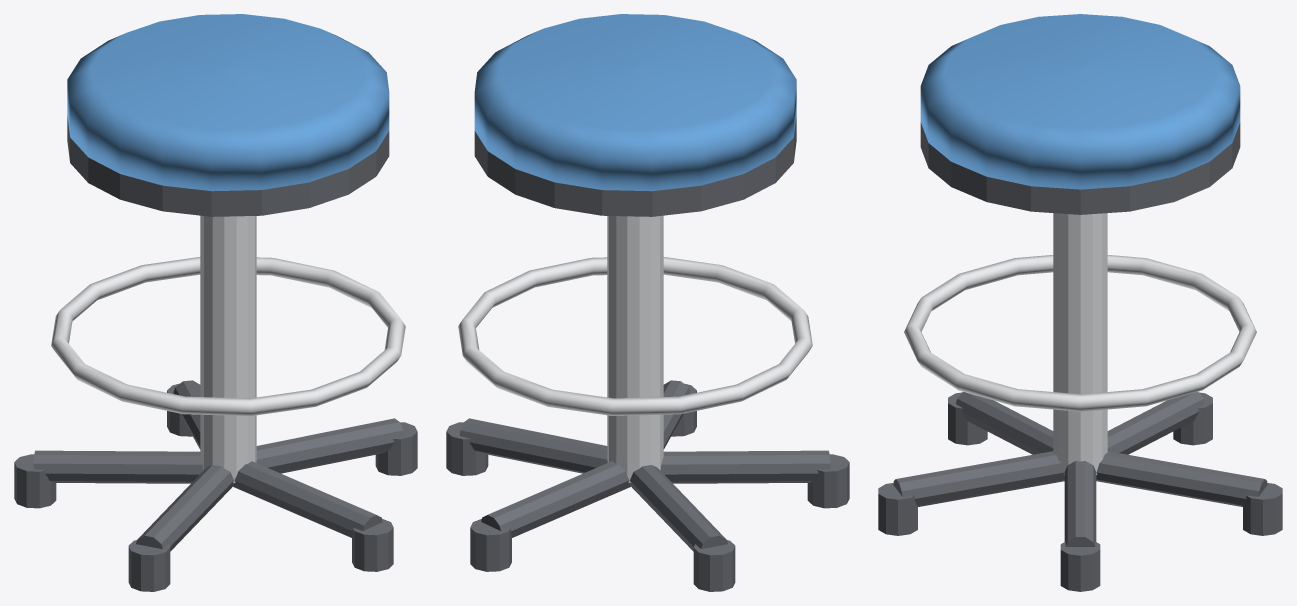
File: lab-stool.glb
3 views of the same model, side by side, from view 1: azimuth 30°, elevation 25°; view 2: azimuth 150°, elevation 25°; view 3: azimuth 270°, elevation 25° (orthographic).
Visible parts, largest first — view 1: lab-stool, seat/blue, seat/dark; view 2: lab-stool, seat/blue, seat/dark; view 3: lab-stool, seat/blue, seat/dark.
Boxes of the visible parts, box(x1,y1,x2,y2) form: lab-stool: box(14, 215, 417, 591); seat/blue: box(67, 14, 389, 191); seat/dark: box(67, 116, 389, 216); lab-stool: box(446, 215, 849, 591); seat/blue: box(474, 14, 796, 191); seat/dark: box(474, 116, 796, 216); lab-stool: box(878, 213, 1282, 591); seat/blue: box(920, 14, 1240, 189); seat/dark: box(920, 122, 1240, 214).
Bounding box in the file's own units: 0.487 × 0.6 × 0.506.
